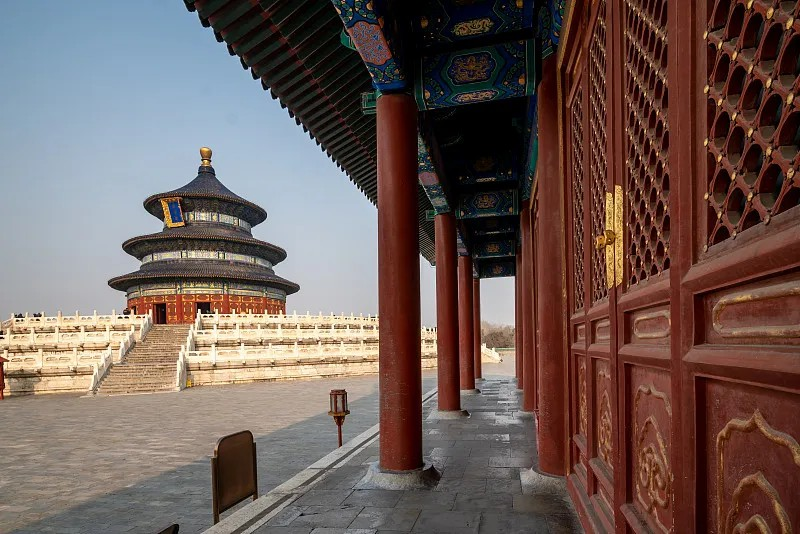Heaven: (104, 147, 301, 323)
